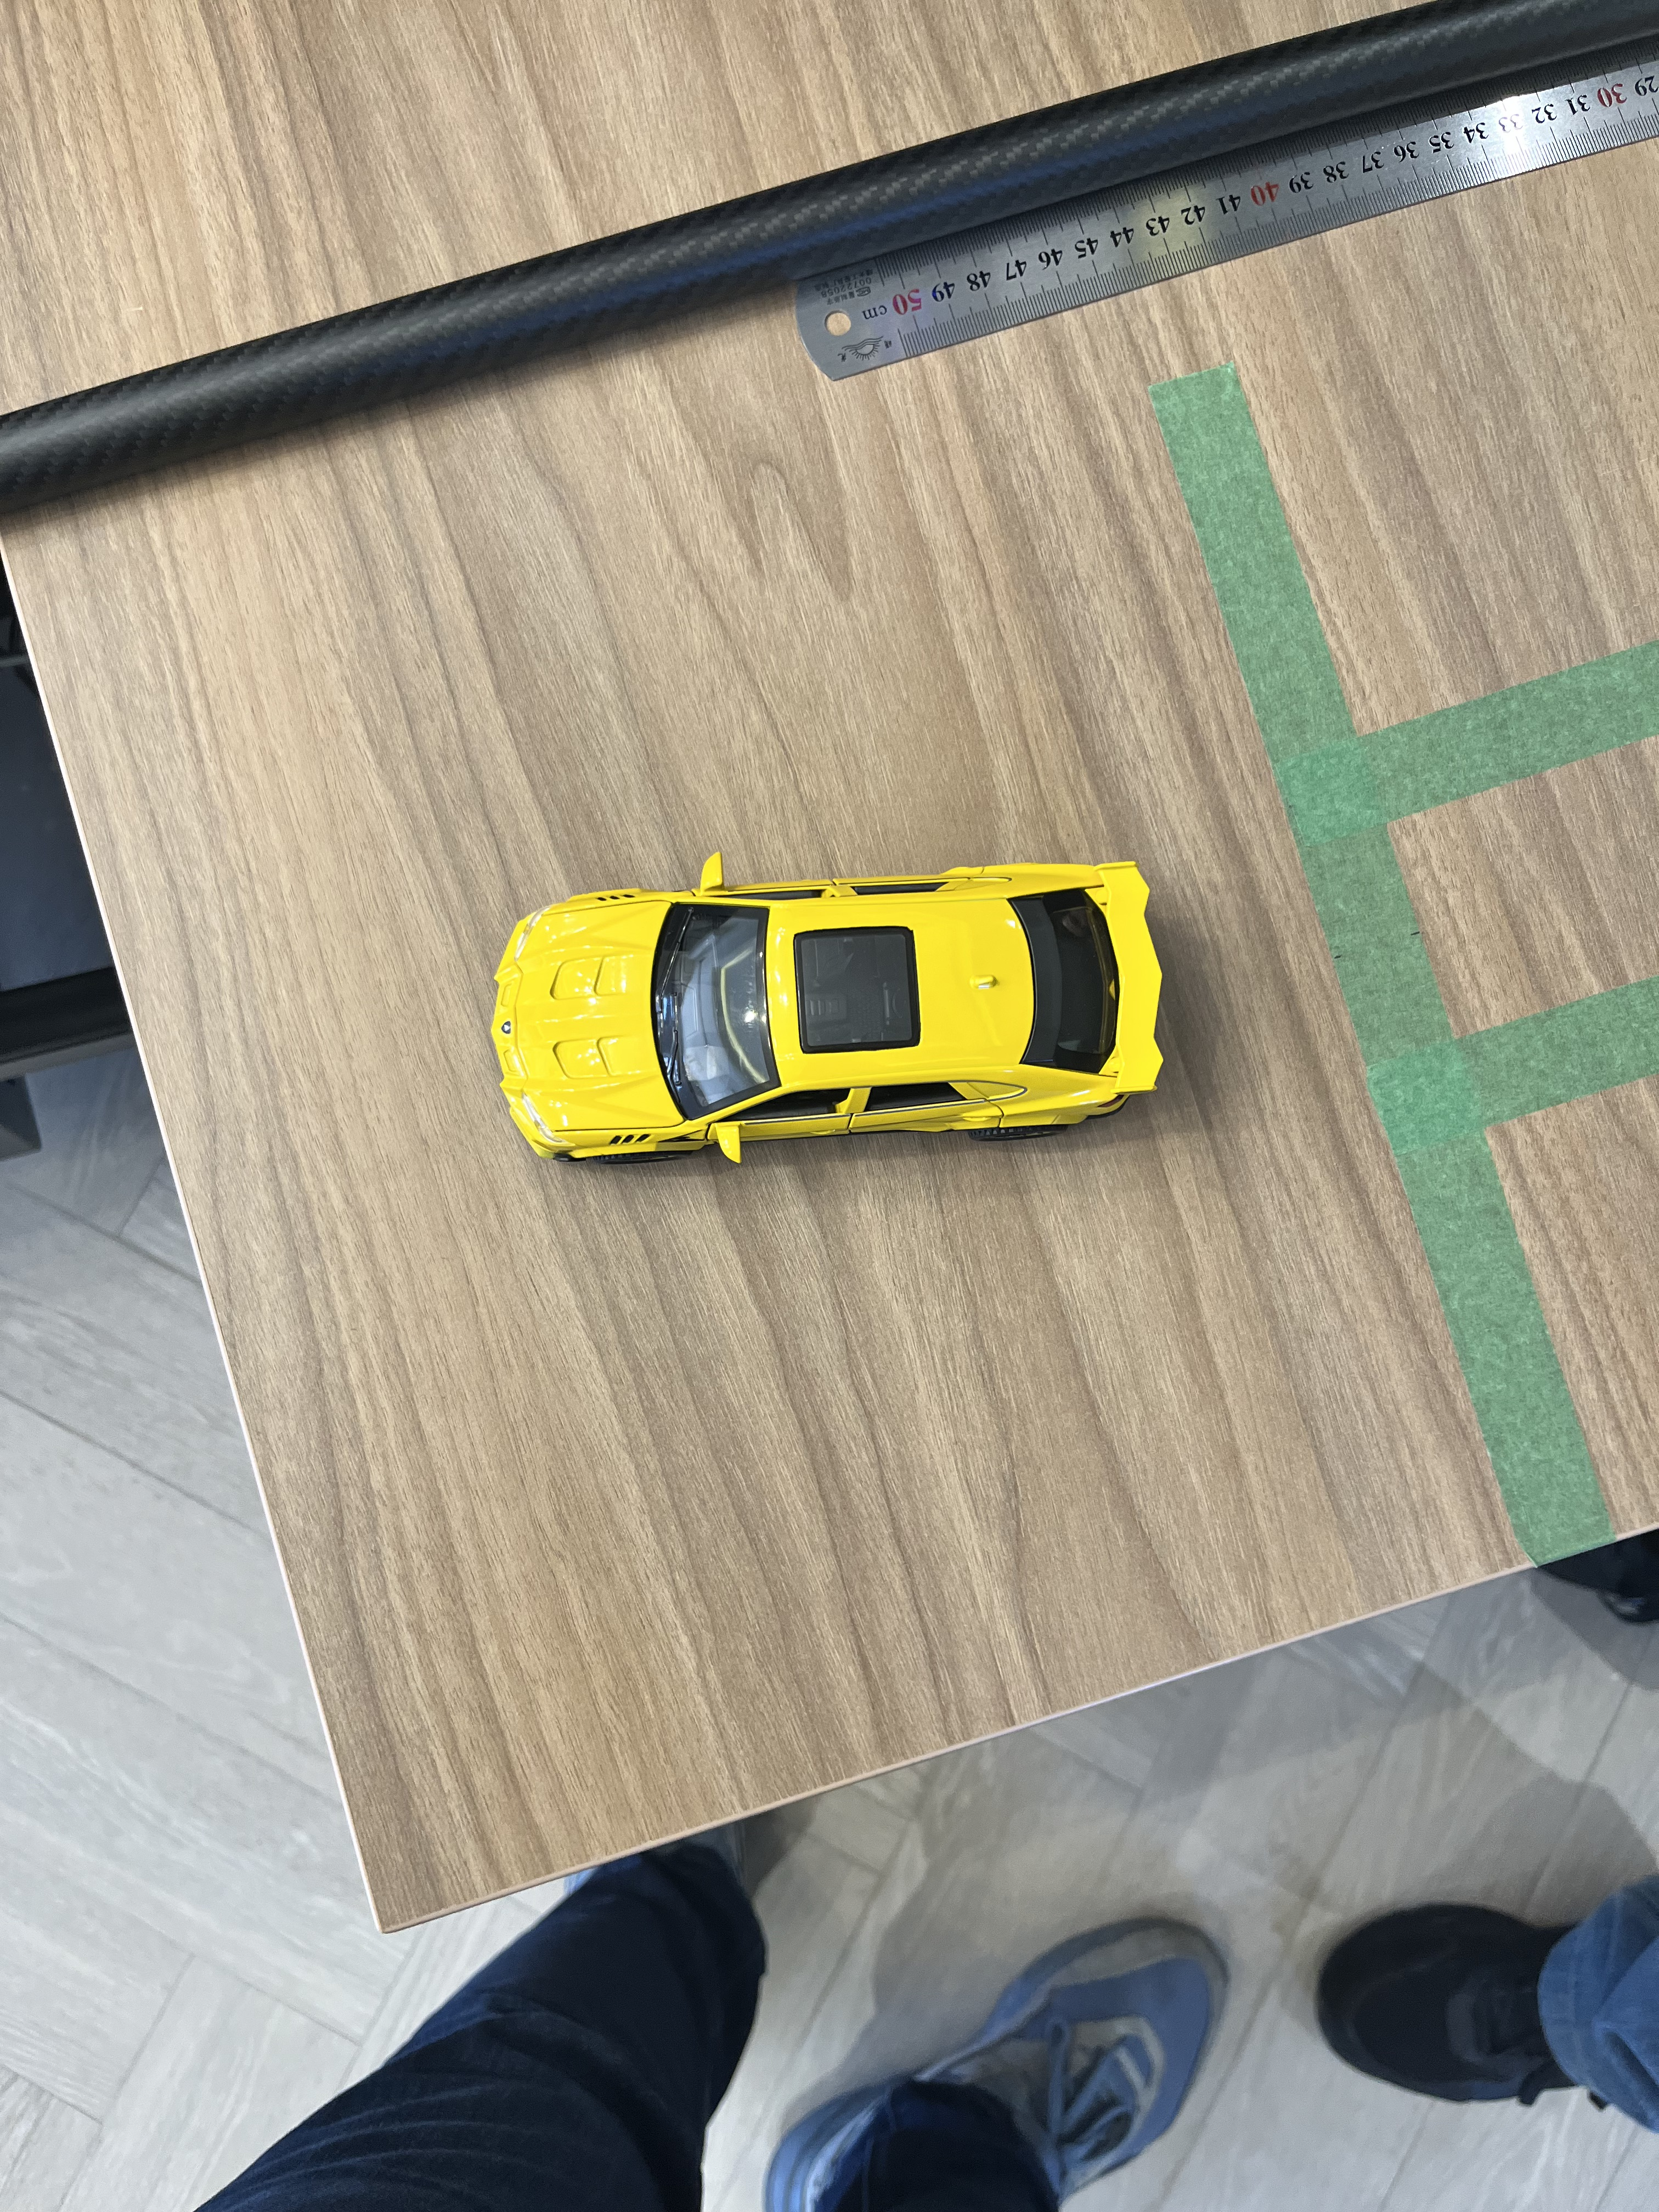lambo: (491, 850, 1161, 1169)
